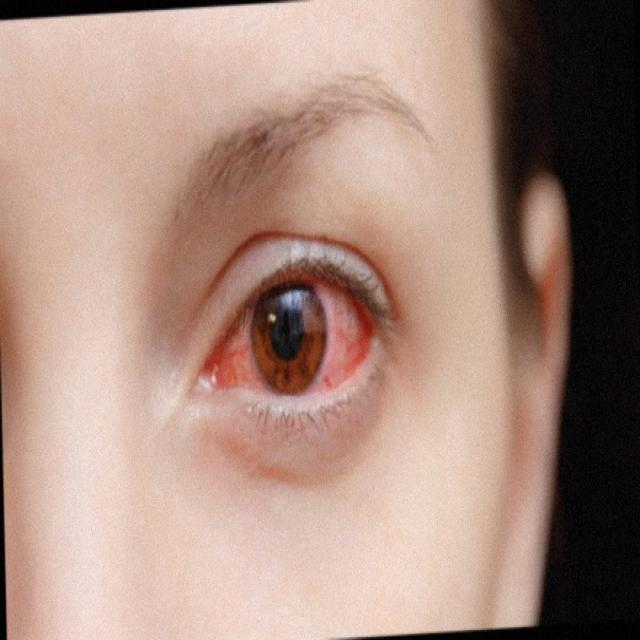Keratitis: (195, 241, 394, 421)
